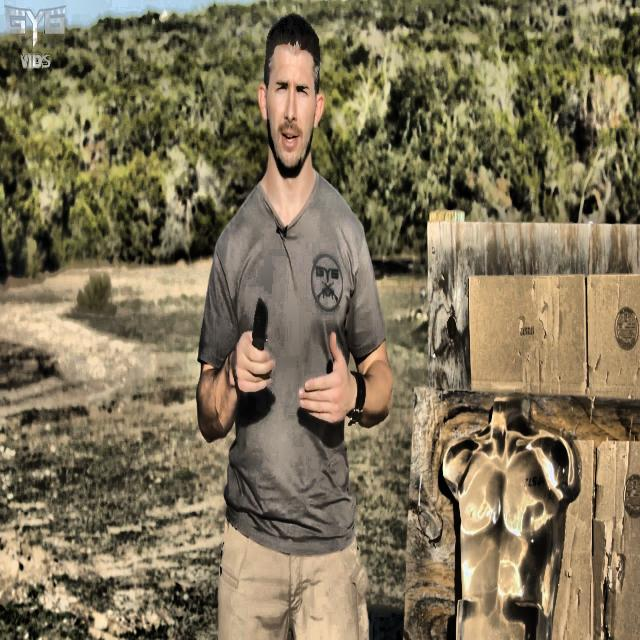knife: (252, 300, 268, 354)
